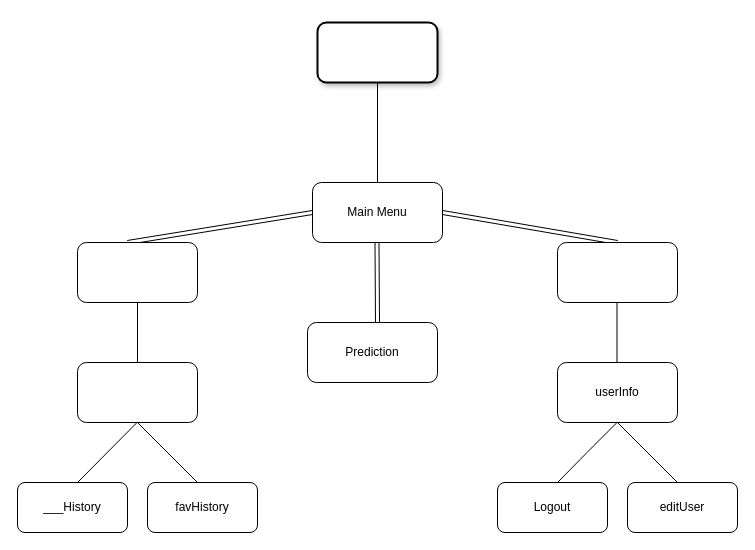
Some shapes in this 755 by 550 pixel diagram are drawn without their labels. The centre of each missing label's shape, as x and y in pixels:
Account Settings: the point at 617,272
categoryHistory: the point at 137,392
History: the point at 137,272
Login: the point at 378,53
